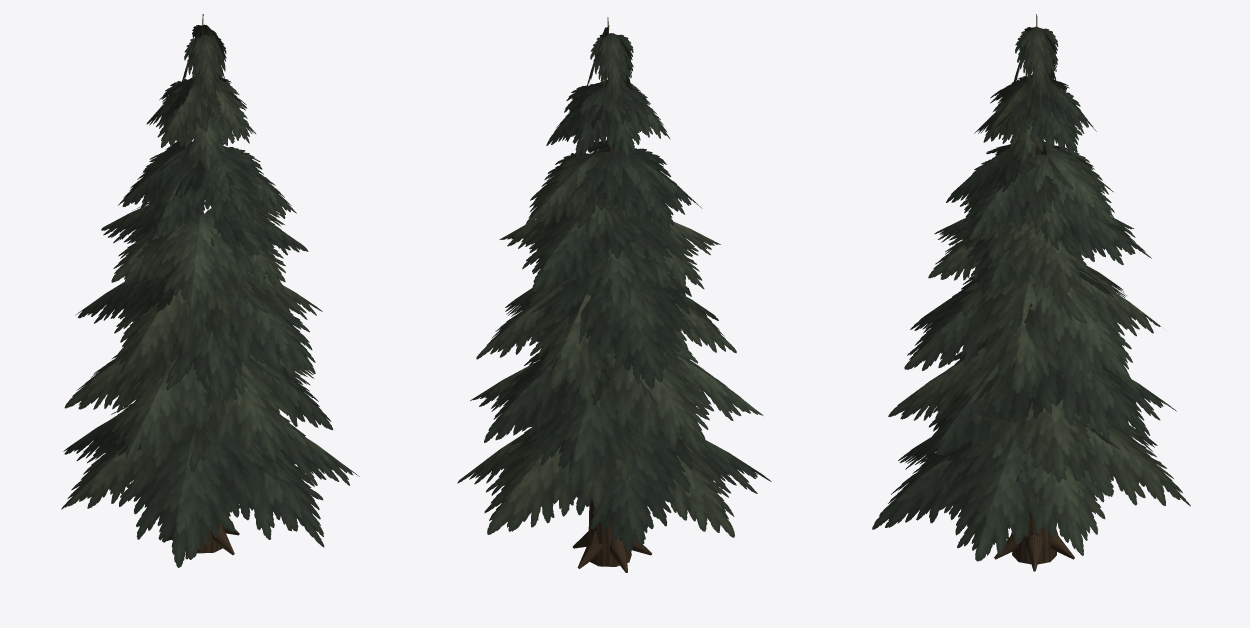
3 views of the same model, side by side, from view 1: azimuth 30°, elevation 25°; view 2: azimuth 150°, elevation 25°; view 3: azimuth 270°, elevation 25° (orthographic). The views are drawn at different scales.
Visible parts, largest first — view 1: Tapered harvest trunk; view 2: Tapered harvest trunk; view 3: Tapered harvest trunk.
Part boxes in pixels (x1,y1,x2,y2): Tapered harvest trunk: (61, 14, 359, 567); Tapered harvest trunk: (457, 17, 771, 572); Tapered harvest trunk: (872, 14, 1190, 571).
Bounding box in the file's own units: 7.18 × 11.41 × 7.58.
3 materials, 2 textured.
